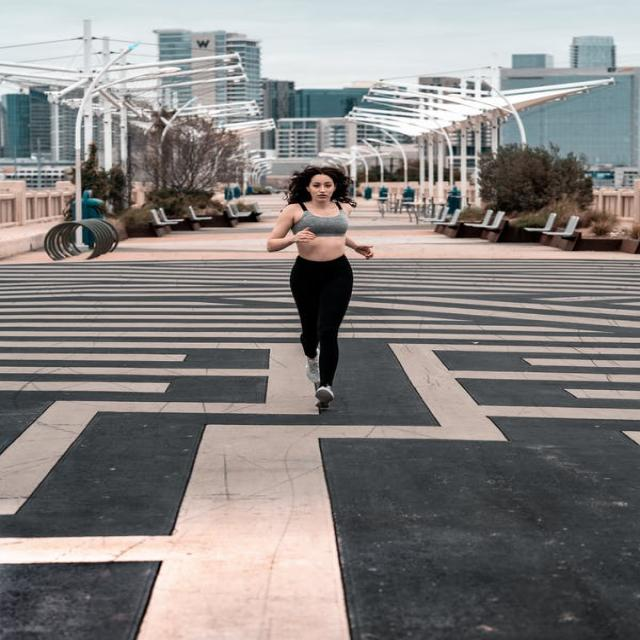running: (262, 163, 379, 413)
